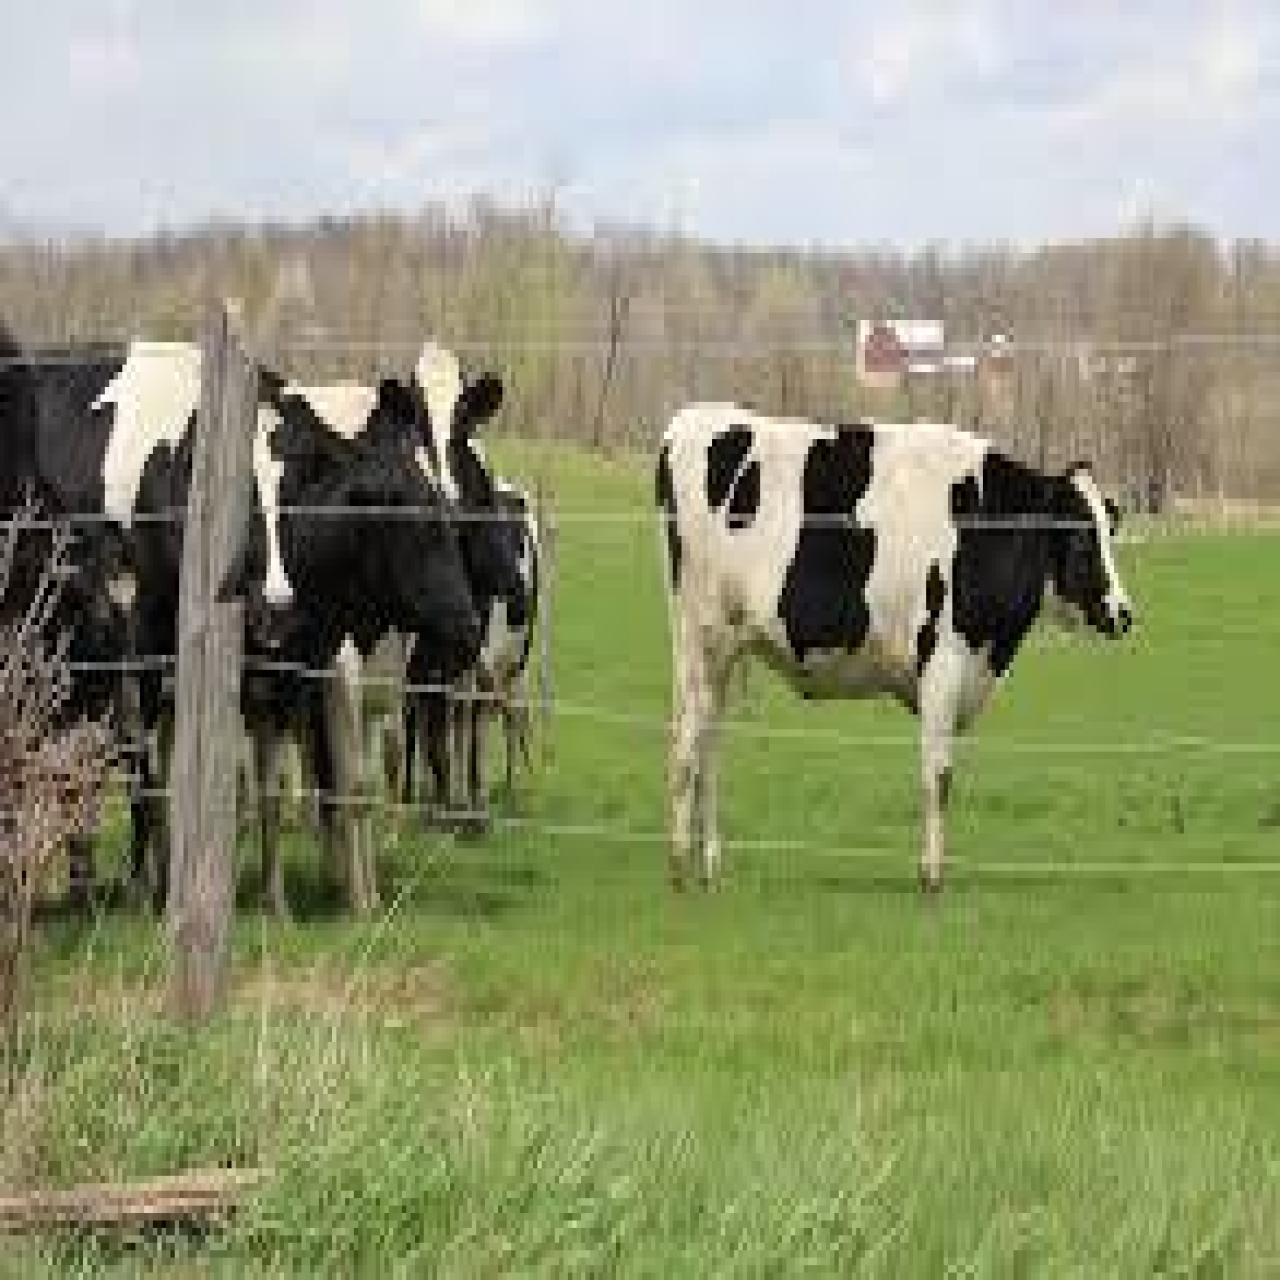cow: (28, 339, 470, 919), (655, 402, 1136, 893), (392, 495, 553, 808), (359, 346, 519, 539)
